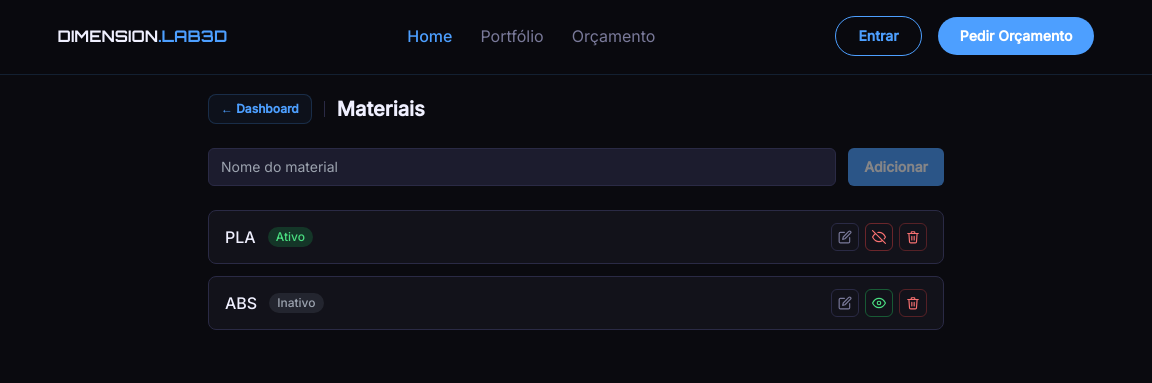
Test: MaterialsAdmin › shows error when delete fails due to linked quotes
Expected: the text "PLA" is shown, [225,225,256,249]
Click the 1st button named "excluir".
click(913, 237)  # box [899,223,927,251]
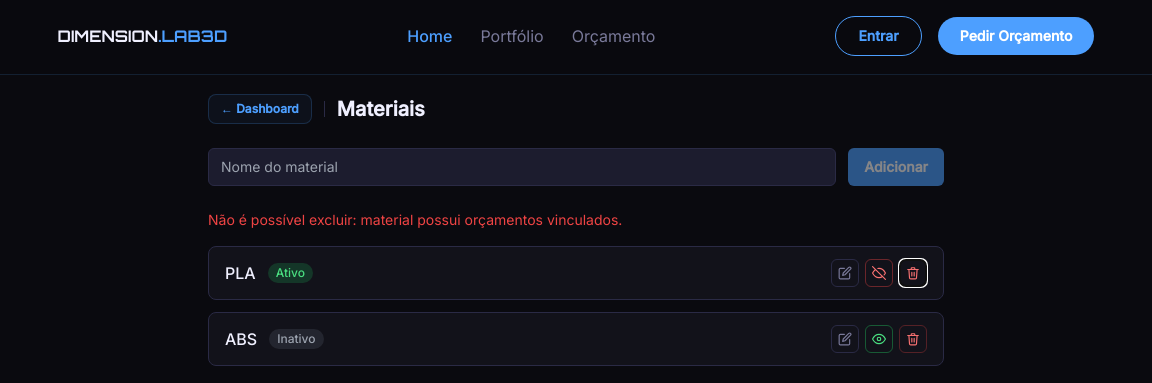
Result: the text "orçamentos vinculados" is shown at [208,211,622,228]
